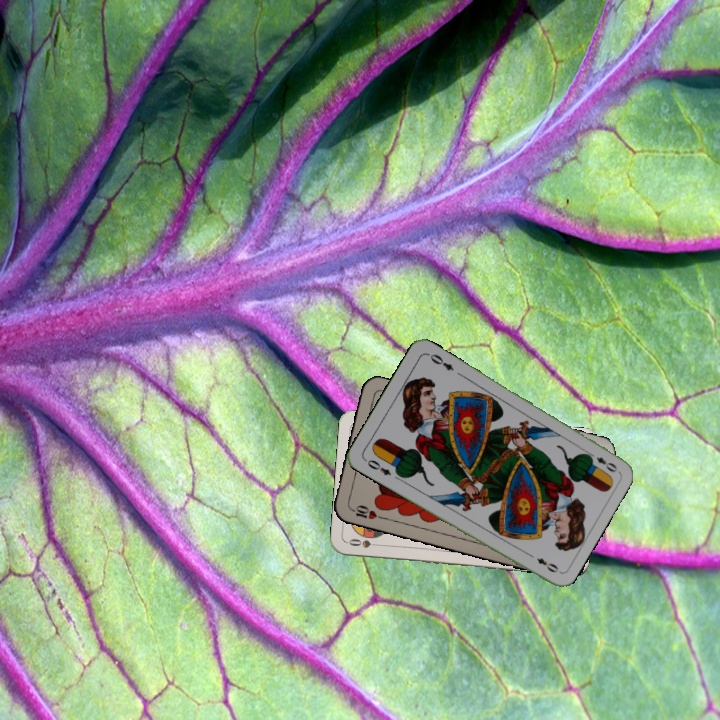EO: (583, 448, 620, 475), (360, 455, 394, 478)
H10: (346, 501, 386, 522)
SO: (344, 534, 385, 550)
